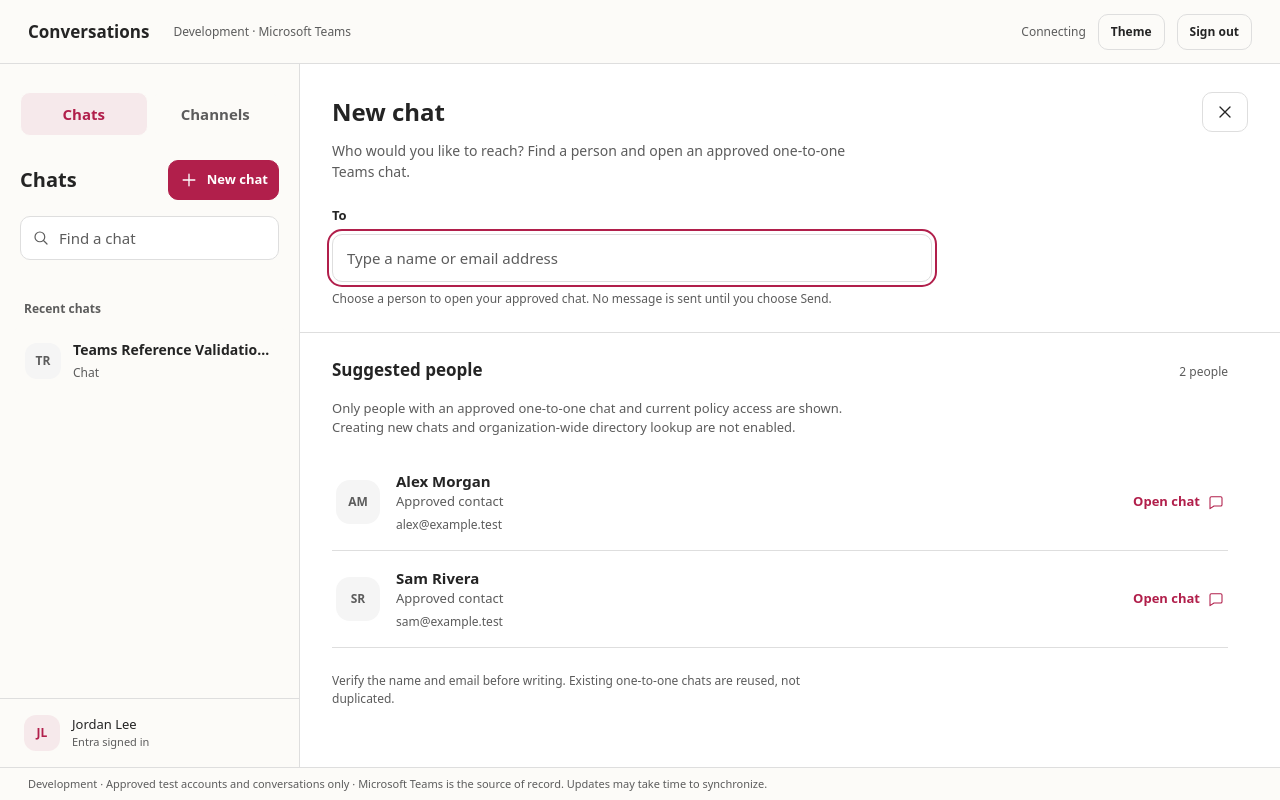
keeps Live discovery honest about opening existing approved chats rather than creating new ones
Expected: the text "Creating new chats and organization-wide directory lookup are not enabled" is shown, [332,398,842,436]
Expected: the text "Choose a person to open your approved chat" is shown, [332,290,832,307]
Click the button with aria-label "Choose: Alex Morgan, alex@example.test" at (358, 502), box [332,454,1228,550]
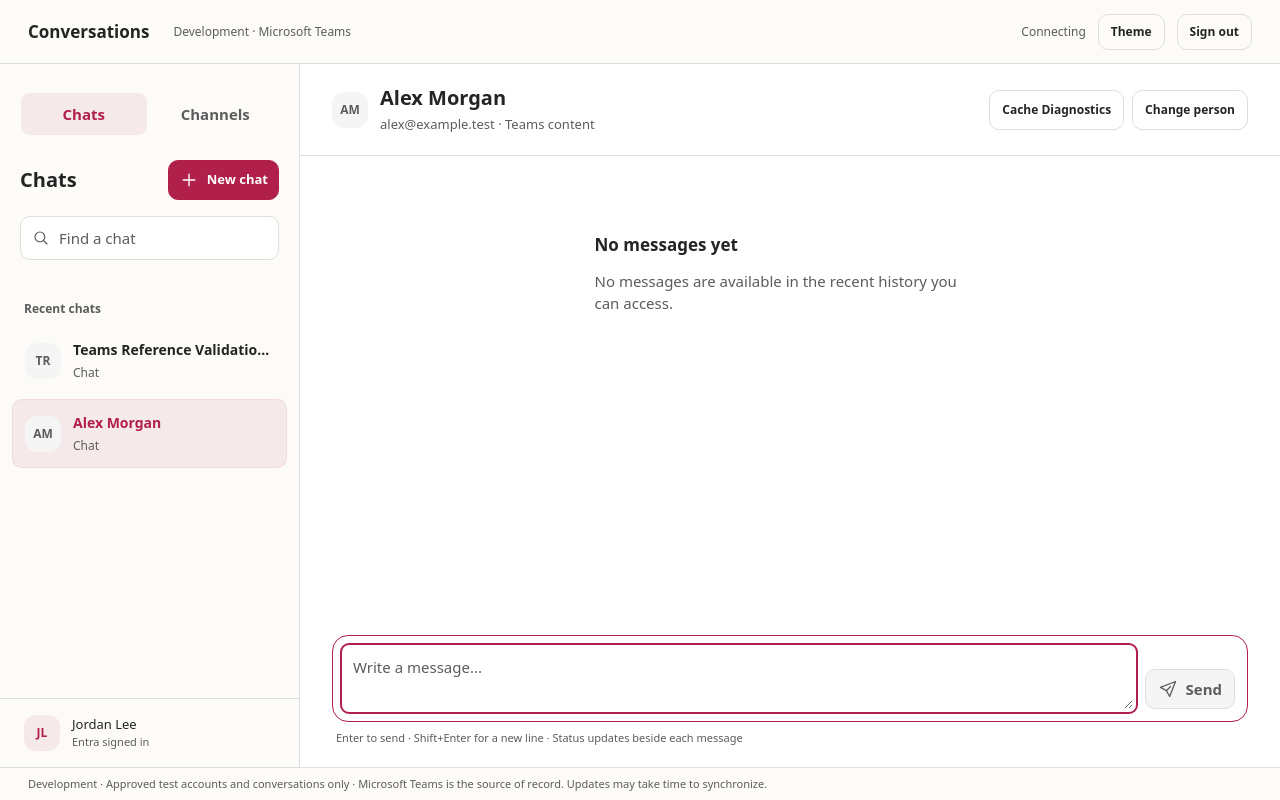
Expected: the text box labelled "Write a message" is shown, [345,648,1132,709]
